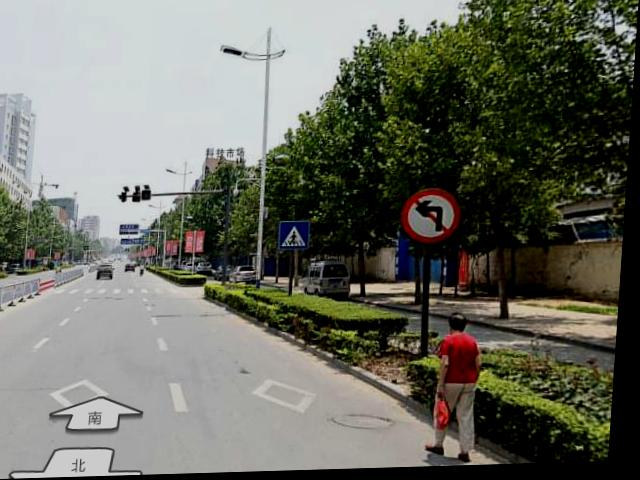not_turn_left: (402, 188, 465, 247)
